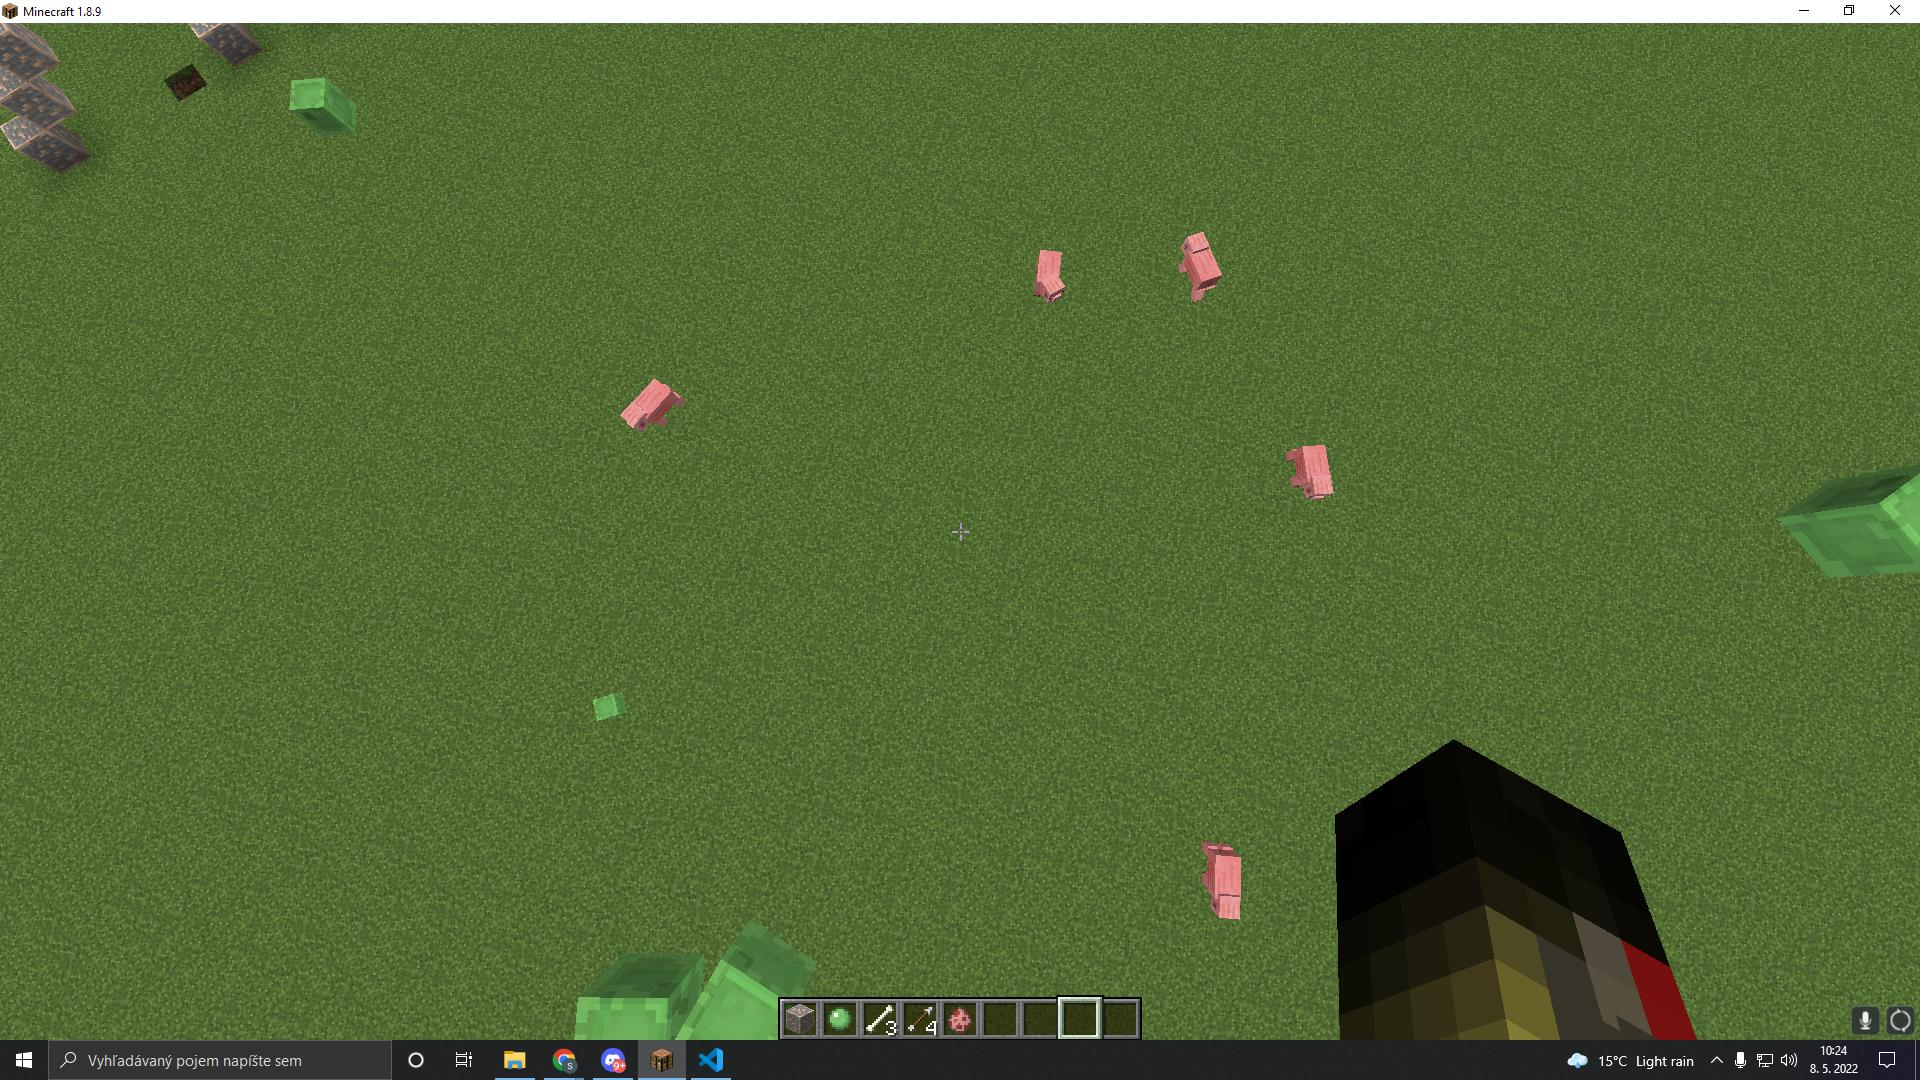pig: (1183, 828, 1262, 943), (1166, 222, 1237, 316), (616, 364, 686, 455), (1279, 430, 1346, 518), (1021, 239, 1080, 318)
